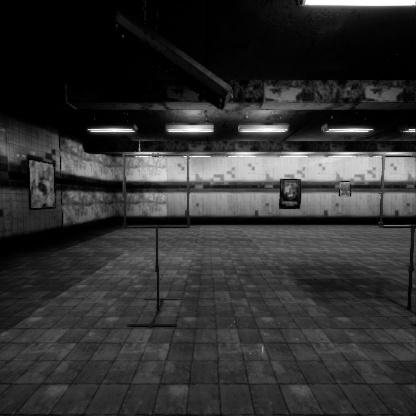gate: (122, 187, 196, 262), (380, 187, 416, 262)
